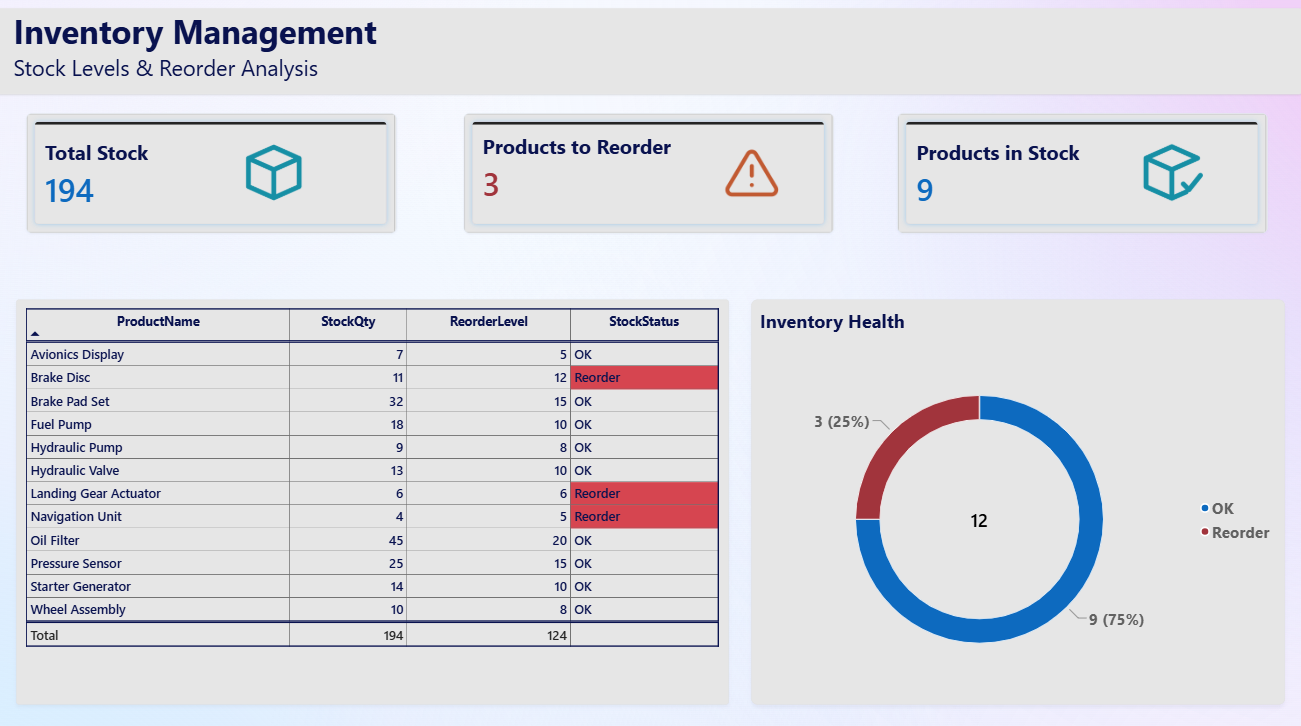

The page's visual inventory and layout, read from the dashboard file:
{"tool":"powerbi","page":{"name":"Inventory Details","canvas":[1920,1080],"ordinal":1},"visuals":[{"type":"tableEx","fields":{"Values":["ProductsTable.ProductName","Sum(InventoryTable.StockQty)","Sum(InventoryTable.ReorderLevel)","InventoryTable.StockStatus"]},"box":[31.2,443.9,1045.5,594.3],"z":0},{"type":"textbox","box":[0,16.5,1920.5,126.6],"z":1000},{"type":"cardVisual","fields":{"Data":["InventoryTable.Total Stock"]},"box":[45.9,170.6,542.9,176.1],"z":2000},{"type":"cardVisual","fields":{"Data":["InventoryTable.Products to Reorder"]},"box":[687.8,170.6,542.9,176.1],"z":3000},{"type":"donutChart","title":"Inventory Health","fields":{"Category":["InventoryTable.StockStatus"],"Y":["Count(InventoryTable.ProductID)"]},"box":[1109.7,443.9,783.2,594.3],"z":4000},{"type":"cardVisual","fields":{"Data":["CustomersTable.Products in Stock"]},"box":[1324.3,170.6,542.9,176.1],"z":5000},{"type":"image","box":[1069.4,201.8,82.5,113.7],"z":6000},{"type":"image","box":[359.5,187.1,99,141.2],"z":6001},{"type":"image","box":[1676.5,187.1,100.9,141.2],"z":6002}]}

Visuals, with their boxes in screenshot pixels (x1, y1, x2, y2), scaled from the page's 1920x1080 canvas onto the 1301x726 screenshot:
tableEx - ProductsTable.ProductName x Sum(InventoryTable.StockQty): <bbox>21, 298, 730, 698</bbox>
textbox: <bbox>0, 11, 1300, 96</bbox>
cardVisual - InventoryTable.Total Stock: <bbox>31, 115, 399, 233</bbox>
cardVisual - InventoryTable.Products to Reorder: <bbox>466, 115, 834, 233</bbox>
"Inventory Health" donutChart: <bbox>752, 298, 1283, 698</bbox>
cardVisual - CustomersTable.Products in Stock: <bbox>897, 115, 1265, 233</bbox>
image: <bbox>725, 136, 781, 212</bbox>
image: <bbox>244, 126, 311, 221</bbox>
image: <bbox>1136, 126, 1204, 221</bbox>
